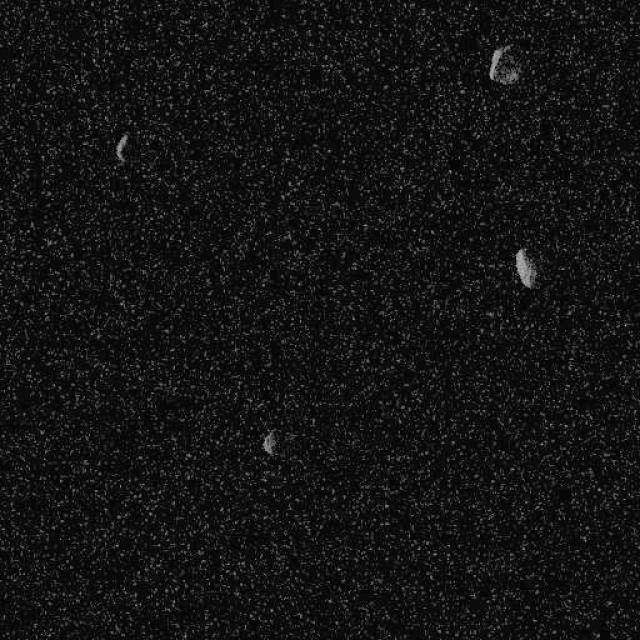D2: (488, 43, 524, 85), (514, 246, 538, 289), (261, 427, 279, 455), (114, 132, 128, 164)
